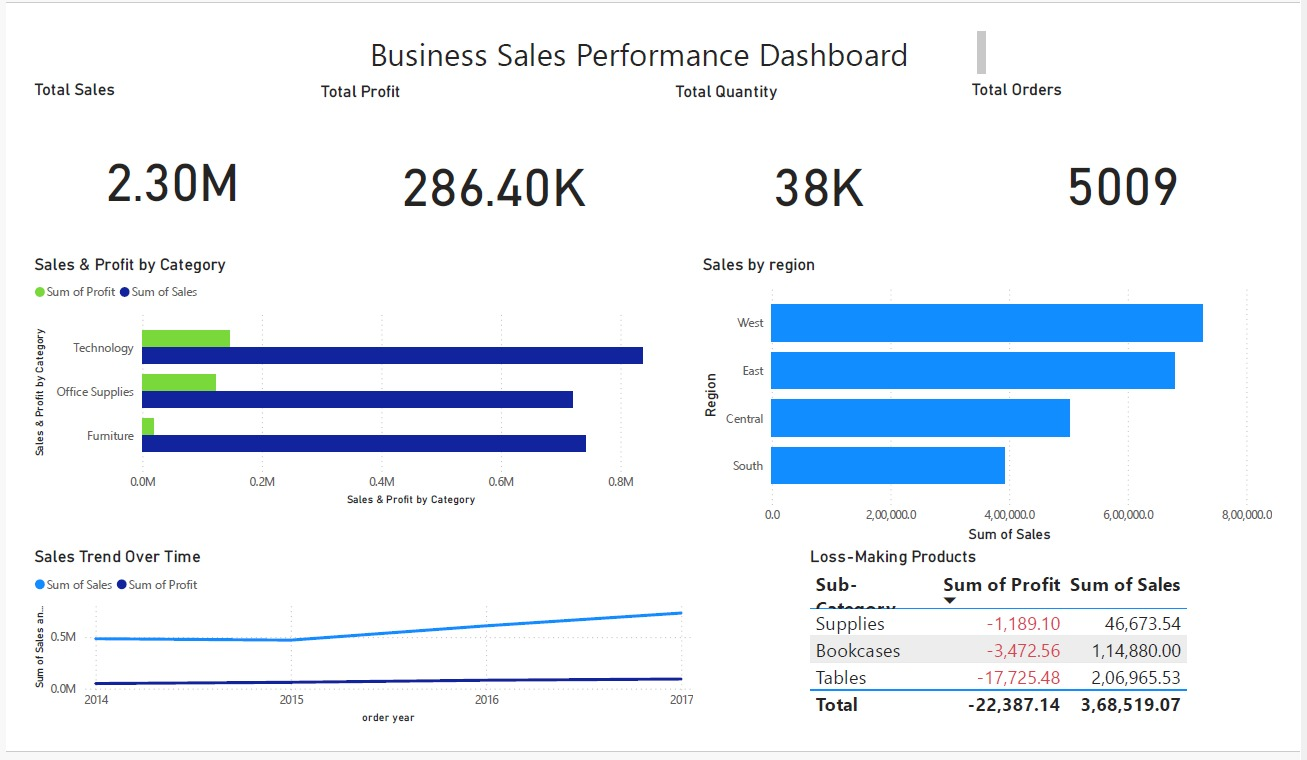

Layout of this report page (visuals, bound fields, positions):
{"tool":"powerbi","page":{"name":"Page 1","canvas":[1280,720],"ordinal":0},"visuals":[{"type":"card","title":"Total Sales","fields":{"Values":["Sum(Sample - Superstore_Cleaned.Sales)"]},"box":[0,54,294,180],"z":0},{"type":"card","title":"Total Quantity","fields":{"Values":["Sum(Sample - Superstore_Cleaned.Quantity)"]},"box":[658,56,304,186],"z":1000},{"type":"card","title":"Total Profit","fields":{"Values":["Sum(Sample - Superstore_Cleaned.Profit)"]},"box":[294,56,364,186],"z":2000},{"type":"card","title":"Total Orders","fields":{"Values":["Sample - Superstore_Cleaned.Total Orders"]},"box":[962,54,318,188],"z":3000},{"type":"clusteredBarChart","title":"Sales & Profit by Category","fields":{"Category":["Sample - Superstore_Cleaned.Category"],"Y":["Sum(Sample - Superstore_Cleaned.Profit)","Sum(Sample - Superstore_Cleaned.Sales)"]},"box":[0,234,686,262],"z":4000},{"type":"barChart","title":"Sales by region","fields":{"Category":["Sample - Superstore_Cleaned.Region"],"Y":["Sum(Sample - Superstore_Cleaned.Sales)"]},"box":[686,234,594,300],"z":5000},{"type":"lineChart","title":"Sales Trend Over Time","fields":{"Category":["Sample - Superstore_Cleaned.order year"],"Y":["Sum(Sample - Superstore_Cleaned.Sales)","Sum(Sample - Superstore_Cleaned.Profit)"]},"box":[0,534,686,186],"z":6000},{"type":"tableEx","title":"Loss-Making Products","fields":{"Values":["Sample - Superstore_Cleaned.Sub-Category","Sum(Sample - Superstore_Cleaned.Profit)","Sum(Sample - Superstore_Cleaned.Sales)"]},"box":[796,534,484,186],"z":7000},{"type":"textbox","box":[274,0,712,54],"z":8000}]}

Visuals, with their boxes on the page's 1280x720 design canvas (x1, y1, x2, y2). These are canvas units, not pixel positions in the 1307x760 screenshot, which may show the page scaled, cropped or inside an application window:
"Total Sales" card: [0, 54, 294, 234]
"Total Quantity" card: [658, 56, 962, 242]
"Total Profit" card: [294, 56, 658, 242]
"Total Orders" card: [962, 54, 1280, 242]
"Sales & Profit by Category" clusteredBarChart: [0, 234, 686, 496]
"Sales by region" barChart: [686, 234, 1280, 534]
"Sales Trend Over Time" lineChart: [0, 534, 686, 720]
"Loss-Making Products" tableEx: [796, 534, 1280, 720]
textbox: [274, 0, 986, 54]
